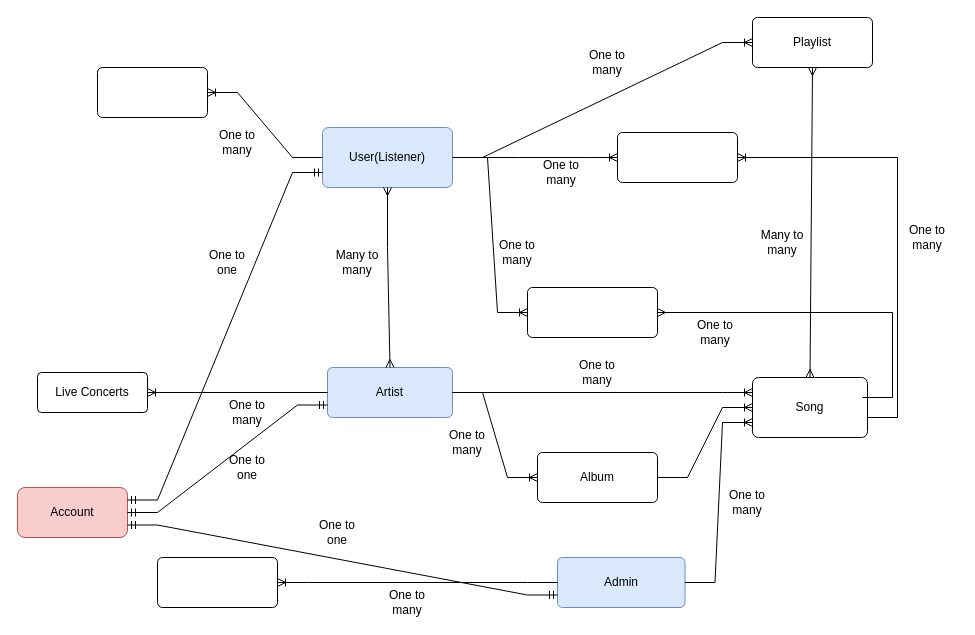
Some shapes in this 975 by 635 pixel diagram are drawn without their labels. Each missing label, with the box of its shape:
Analytics Report: (156, 556, 278, 608)
Listening History: (616, 132, 738, 182)
Notifications: (96, 66, 208, 118)
Song Queue: (526, 286, 658, 338)
